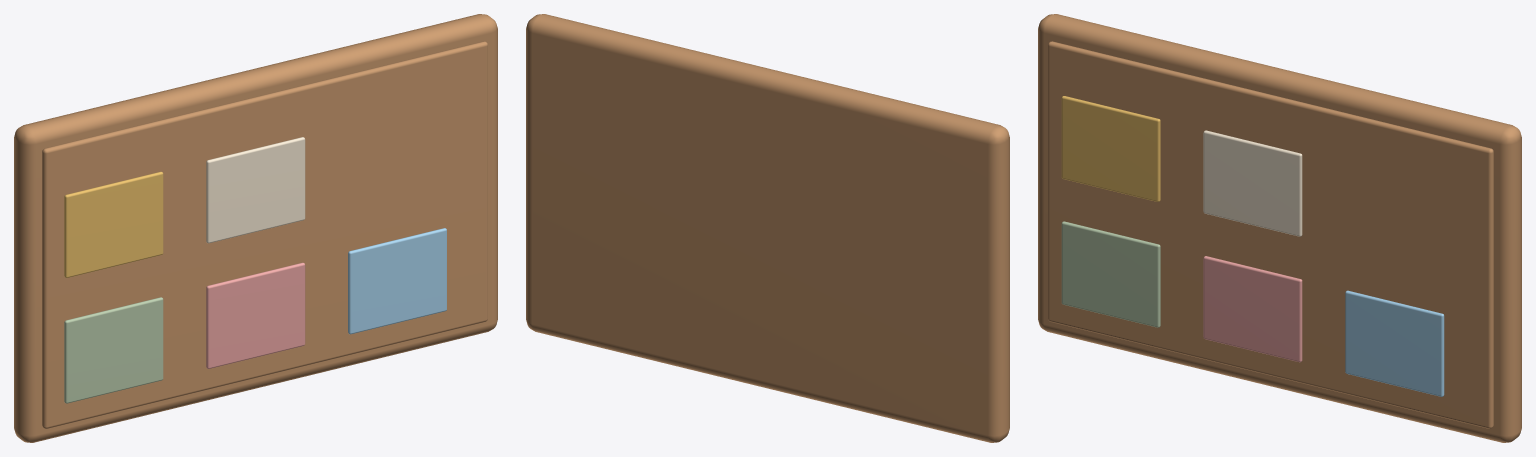
File: officeCorkboardB.glb
3 renders of one model, left to right at view 1: azimuth 30°, elevation 25°; view 2: azimuth 150°, elevation 25°; view 3: azimuth 330°, elevation 25°, orthographic.
Visible parts, largest first — view 1: Board surface, Board frame, Note.004, Note, Note.003, Note.001, Note.002; view 2: Board frame; view 3: Board surface, Board frame, Note, Note.001, Note.002, Note.004, Note.003.
Boxes of the visible parts, x1,y1,x2,y2 form: Board surface: [42, 41, 487, 428]; Board frame: [14, 14, 497, 442]; Note.004: [206, 137, 305, 243]; Note: [64, 297, 163, 403]; Note.003: [64, 171, 163, 277]; Note.001: [206, 262, 305, 368]; Note.002: [348, 228, 446, 334]; Board frame: [526, 14, 1009, 442]; Board surface: [1048, 41, 1493, 428]; Board frame: [1038, 14, 1521, 442]; Note: [1061, 221, 1160, 327]; Note.001: [1203, 256, 1302, 362]; Note.002: [1345, 290, 1444, 396]; Note.004: [1203, 130, 1302, 236]; Note.003: [1061, 96, 1160, 201].
Size of the model in its own units: 1.75 by 1.1 by 0.1425.
